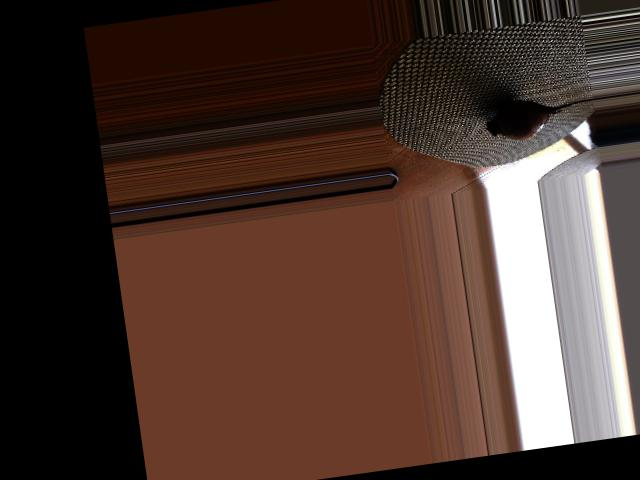beet: (483, 90, 596, 144)
